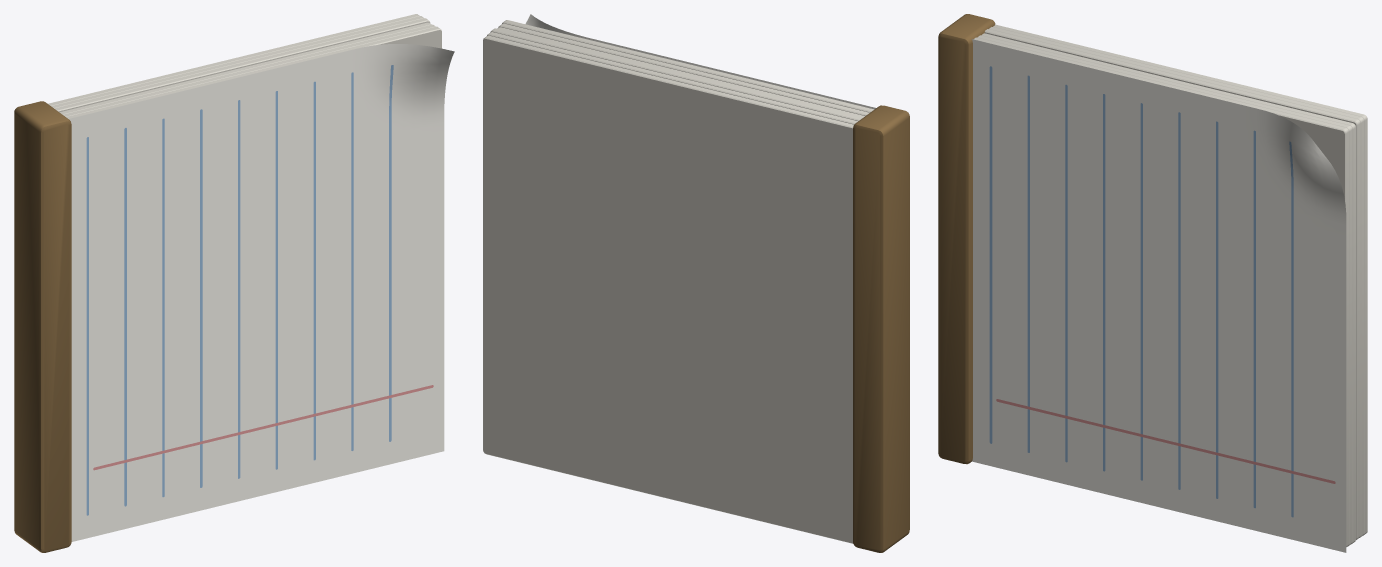
The model's file is tool-memo.glb.
The picture shows the model from 3 angles, left to right: view 1: azimuth 30°, elevation 25°; view 2: azimuth 150°, elevation 25°; view 3: azimuth 330°, elevation 25°; orthographic projection.
Visible parts, largest first — view 1: TopSheet, Spine, Pages_2, Pages_5, Pages_1, Pages_4, Pages_3, Pages_0, Margin, Rule_8, Rule_0, Rule_6 (+6 smaller); view 2: Pages_0, Spine, Pages_2, Pages_5, Pages_4, Pages_1, Pages_3, TopSheet; view 3: TopSheet, Spine, Pages_2, Pages_5, Pages_1, Pages_4, Pages_0, Pages_3, Rule_8, Margin, Rule_1, Rule_2 (+6 smaller).
Boxes of the visible parts, x1,y1,x2,y2 form: TopSheet: [69, 44, 454, 541]; Spine: [14, 101, 71, 552]; Pages_2: [54, 18, 430, 112]; Pages_5: [66, 26, 441, 118]; Pages_1: [51, 16, 423, 108]; Pages_4: [63, 24, 435, 116]; Pages_3: [59, 22, 431, 114]; Pages_0: [48, 14, 419, 105]; Margin: [93, 385, 433, 470]; Rule_8: [86, 137, 88, 515]; Rule_0: [389, 65, 393, 441]; Rule_6: [162, 118, 164, 497]; Pages_0: [483, 35, 853, 543]; Spine: [853, 105, 909, 552]; Pages_2: [490, 28, 862, 121]; Pages_5: [502, 20, 874, 112]; Pages_4: [498, 23, 869, 115]; Pages_1: [487, 32, 857, 124]; Pages_3: [497, 27, 864, 117]; TopSheet: [525, 14, 875, 109]; TopSheet: [972, 39, 1346, 552]; Spine: [938, 14, 995, 464]; Pages_2: [984, 29, 1360, 539]; Pages_5: [973, 37, 1348, 546]; Pages_1: [989, 27, 1363, 537]; Pages_4: [977, 35, 1352, 546]; Pages_0: [993, 24, 1367, 535]; Pages_3: [981, 33, 1355, 543]; Rule_8: [989, 66, 992, 443]; Margin: [996, 399, 1335, 483]; Rule_1: [1253, 130, 1255, 508]; Rule_2: [1216, 121, 1218, 498].
Bounding box in the file's own units: 0.0754 × 0.0758 × 0.0138.
